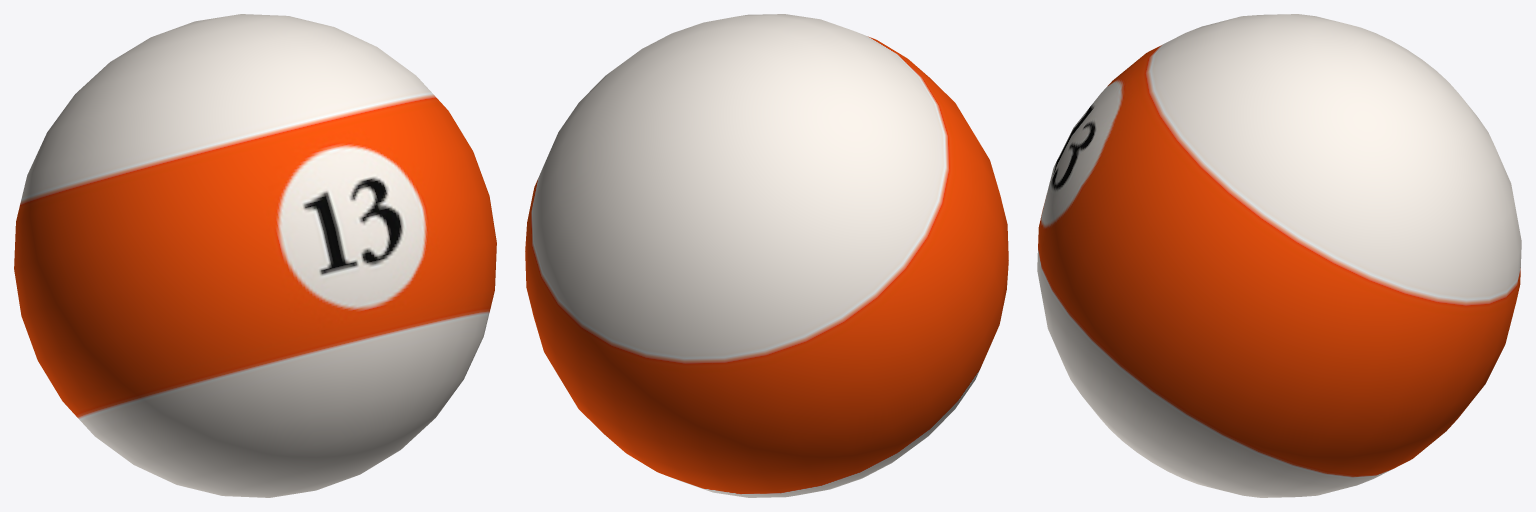
Rendered from semi_orange.glb.
3 renders of one model, left to right at view 1: azimuth 30°, elevation 25°; view 2: azimuth 150°, elevation 25°; view 3: azimuth 270°, elevation 25°, orthographic.
Visible parts, largest first — view 1: Ball13_04 - Default_0; view 2: Ball13_04 - Default_0; view 3: Ball13_04 - Default_0.
Part boxes in pixels (bbox=[...]): Ball13_04 - Default_0: bbox=[14, 14, 496, 497]; Ball13_04 - Default_0: bbox=[525, 14, 1008, 497]; Ball13_04 - Default_0: bbox=[1037, 14, 1521, 497].
Bounding box in the file's own units: 37.86 × 37.78 × 37.78.
1 material, 1 textured.
